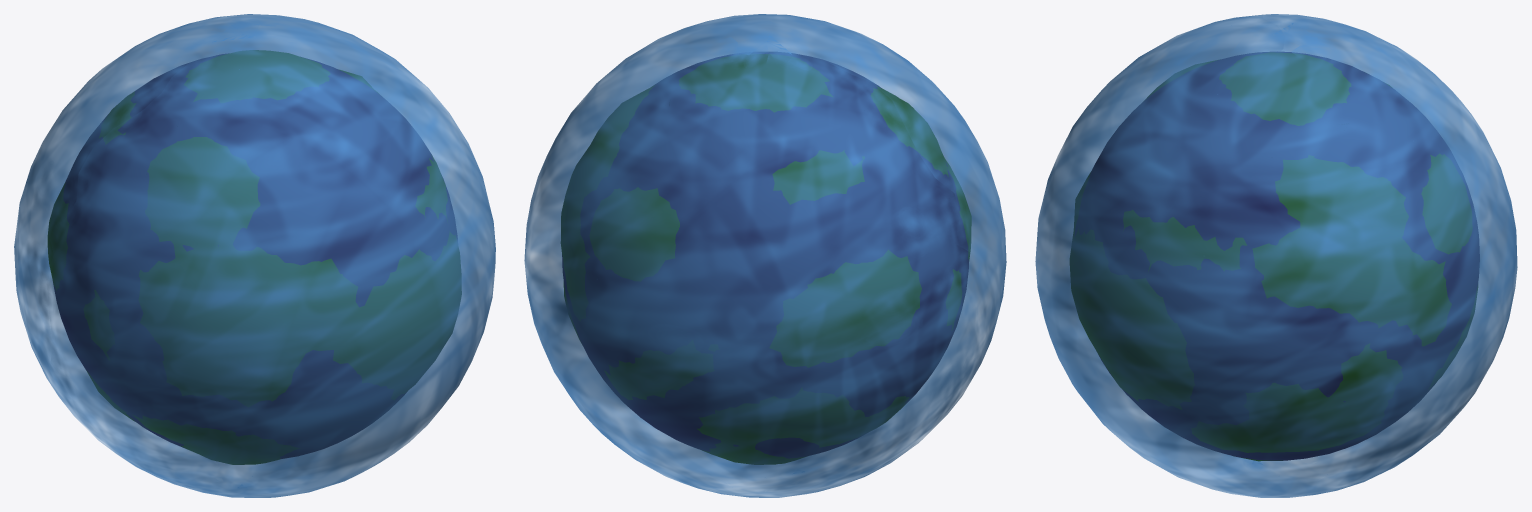
Rendered from planet.glb.
3 renders of one model, left to right at view 1: azimuth 30°, elevation 25°; view 2: azimuth 150°, elevation 25°; view 3: azimuth 270°, elevation 25°, orthographic.
Parts seen in each view (by area): view 1: Sphere.002, Sphere.001, Sphere; view 2: Sphere.002, Sphere.001, Sphere; view 3: Sphere.002, Sphere.001, Sphere.
Boxes of the visible parts, x1=… form: Sphere.002: x1=14, y1=14, x2=495, y2=497; Sphere.001: x1=54, y1=54, x2=457, y2=458; Sphere: x1=47, y1=50, x2=461, y2=464; Sphere.002: x1=524, y1=14, x2=1006, y2=497; Sphere.001: x1=562, y1=52, x2=968, y2=458; Sphere: x1=561, y1=54, x2=971, y2=464; Sphere.002: x1=1035, y1=14, x2=1517, y2=497; Sphere.001: x1=1075, y1=51, x2=1479, y2=460; Sphere: x1=1070, y1=52, x2=1478, y2=461.
Bounding box in the file's own units: 2.34 × 2.36 × 2.34.
3 materials, 3 textured.
